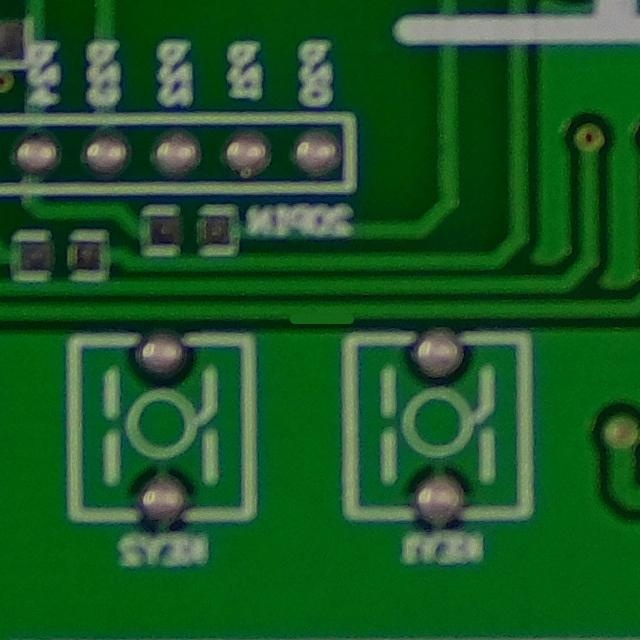spur: (277, 300, 364, 339)
